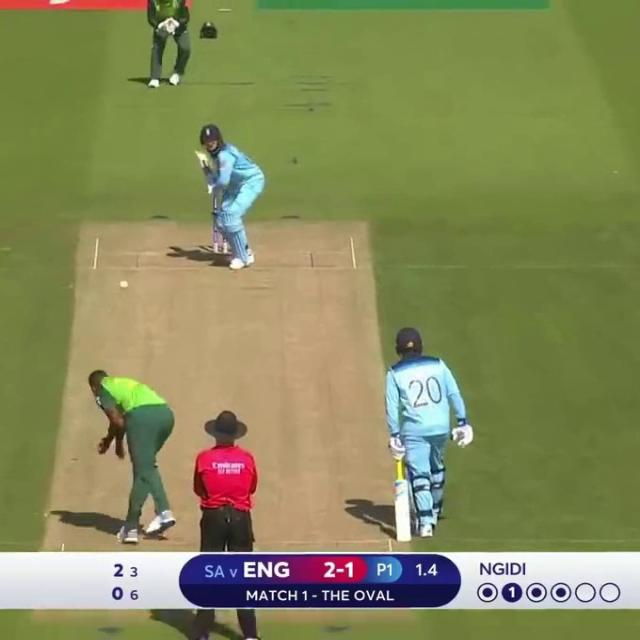bat: (394, 482, 410, 542), (193, 150, 211, 168)
toe: (398, 537, 410, 541)
